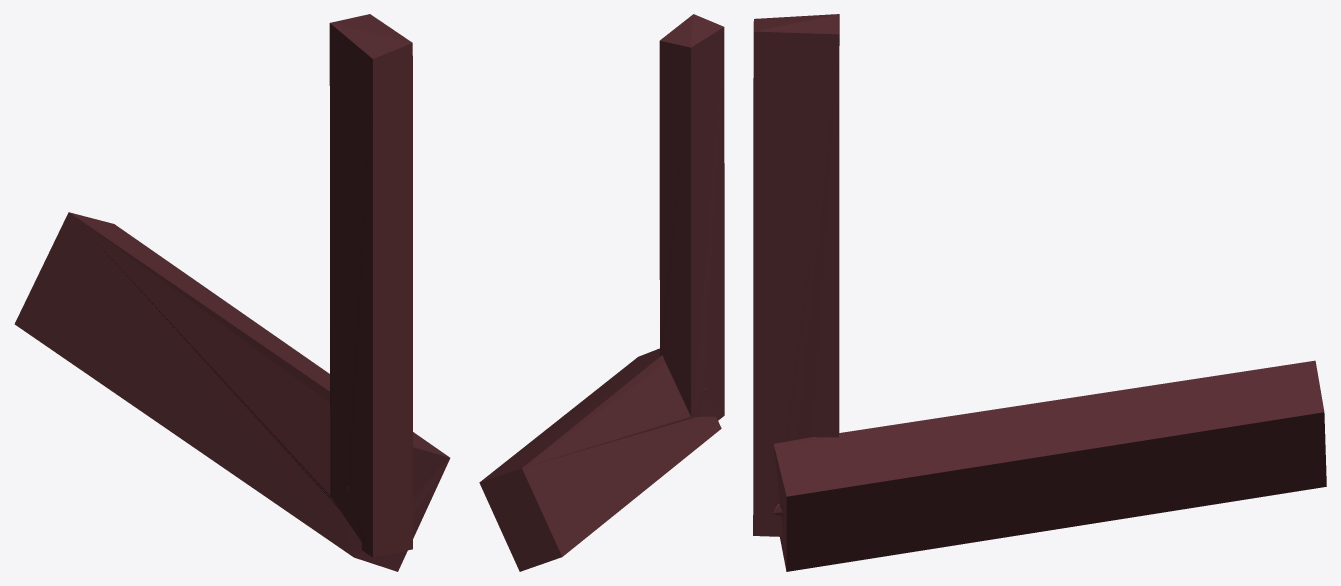
3 views of the same model, side by side, from view 1: azimuth 30°, elevation 25°; view 2: azimuth 150°, elevation 25°; view 3: azimuth 270°, elevation 25° (orthographic). The views are drawn at different scales.
Parts seen in each view (by area): view 1: 905_Cube.3653; view 2: 905_Cube.3653; view 3: 905_Cube.3653.
Boxes of the visible parts, x1,y1,x2,y2 form: 905_Cube.3653: [14, 14, 450, 571]; 905_Cube.3653: [479, 14, 724, 571]; 905_Cube.3653: [753, 14, 1326, 571].
Size of the model in its own units: 4.27 by 13.04 by 12.56.
